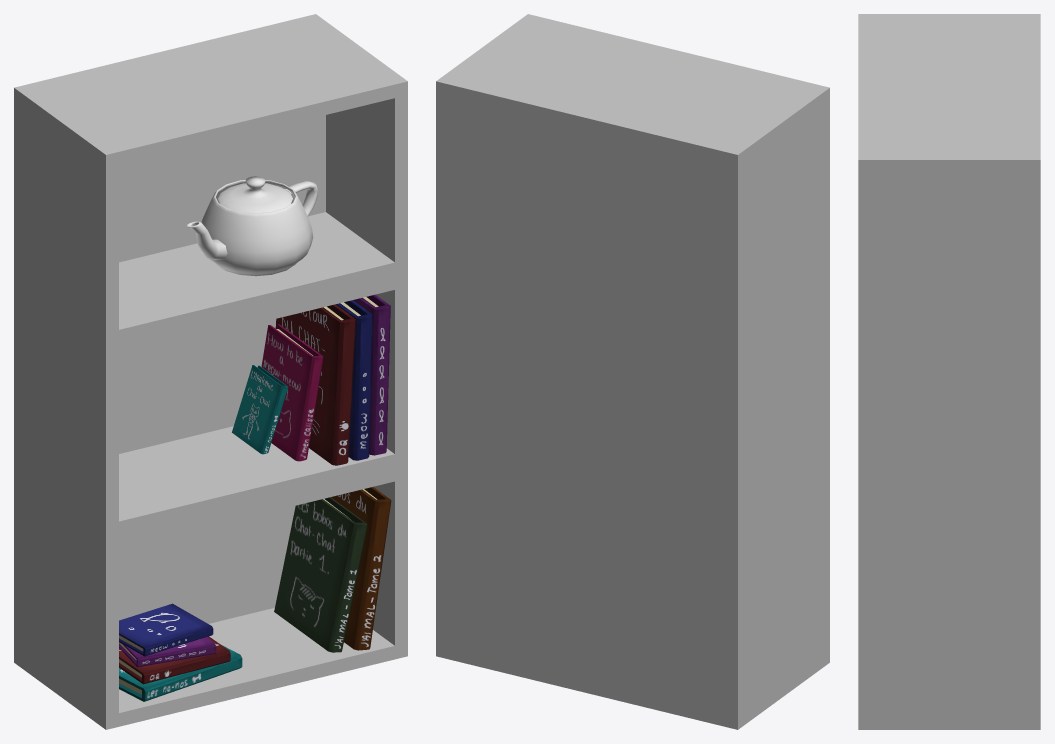
Rendered from Shelf.FBX.
The picture shows the model from 3 angles, left to right: view 1: azimuth 30°, elevation 25°; view 2: azimuth 150°, elevation 25°; view 3: azimuth 270°, elevation 25°; orthographic projection.
Parts seen in each view (by area): view 1: Shelf, Book001, Teapot001, Book008, Book009, Book, Book005, Book007, Book010, Book006, Book002, Book003 (+1 smaller); view 2: Shelf; view 3: Shelf.
Boxes of the visible parts, bbox=[...] form: Shelf: bbox=[14, 14, 407, 729]; Book001: bbox=[274, 497, 367, 652]; Teapot001: bbox=[186, 176, 318, 276]; Book008: bbox=[275, 304, 355, 465]; Book009: bbox=[261, 324, 323, 461]; Book: bbox=[331, 487, 391, 650]; Book005: bbox=[119, 603, 213, 656]; Book007: bbox=[336, 300, 372, 460]; Book010: bbox=[232, 365, 288, 454]; Book006: bbox=[353, 294, 390, 455]; Book002: bbox=[119, 645, 242, 701]; Book003: bbox=[119, 636, 230, 684]; Shelf: bbox=[436, 14, 829, 729]; Shelf: bbox=[858, 14, 1040, 729].
Size of the model in its own units: 86.66 by 158 by 45.74.
